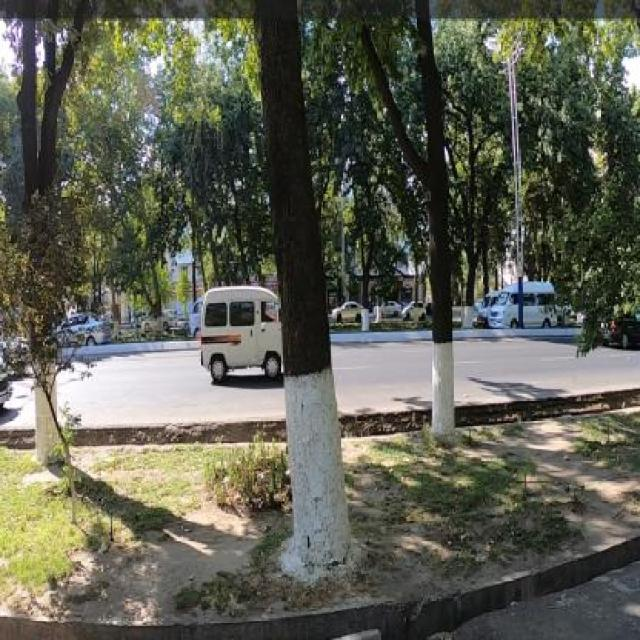tree trunk: (241, 12, 365, 578), (400, 105, 468, 446), (14, 104, 72, 476), (148, 283, 167, 346), (372, 278, 386, 331), (110, 295, 121, 342)
